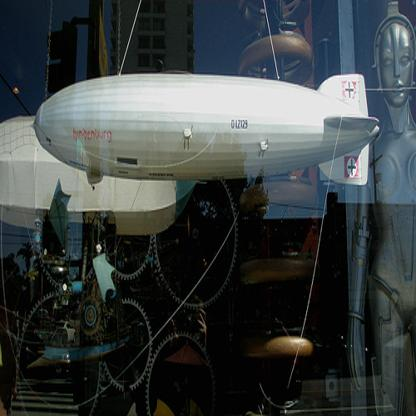Airship: (31, 68, 386, 194)
